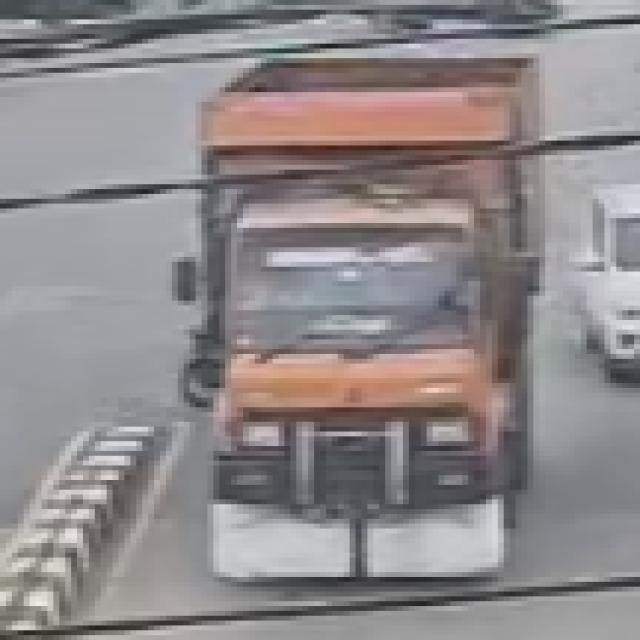truck: (145, 63, 568, 602)
